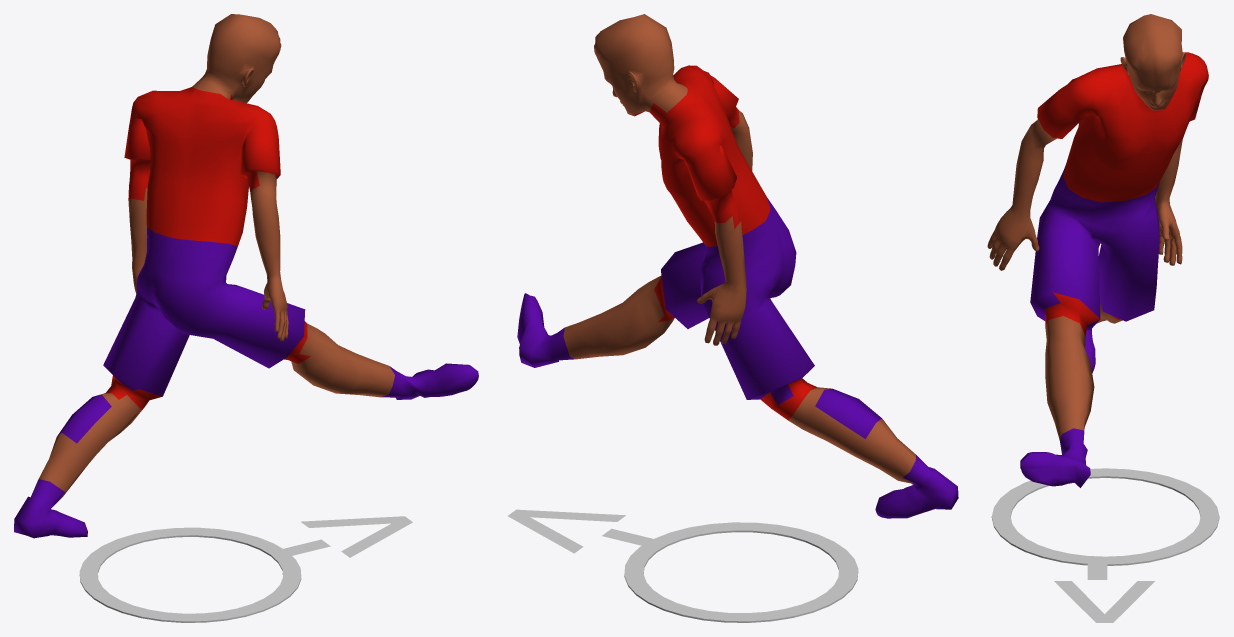
The model's file is player_000030.obj.
3 renders of one model, left to right at view 1: azimuth 30°, elevation 25°; view 2: azimuth 150°, elevation 25°; view 3: azimuth 270°, elevation 25°, orthographic. The views are drawn at different scales.
Visible parts, largest first — view 1: soccerplayer.002_mesh.003, Circle, Text.001_Mesh.001; view 2: soccerplayer.002_mesh.003, Circle, Text.001_Mesh.001; view 3: soccerplayer.002_mesh.003, Circle, Text.001_Mesh.001.
Part boxes in pixels (x1,y1,x2,y2): soccerplayer.002_mesh.003: [14, 14, 478, 538]; Circle: [79, 527, 301, 622]; Text.001_Mesh.001: [279, 516, 412, 557]; soccerplayer.002_mesh.003: [517, 14, 958, 518]; Circle: [624, 522, 858, 622]; Text.001_Mesh.001: [508, 509, 656, 553]; soccerplayer.002_mesh.003: [987, 14, 1208, 487]; Circle: [991, 468, 1219, 565]; Text.001_Mesh.001: [1054, 558, 1154, 622].
Size of the model in its own units: 2.46 by 2.85 by 1.11.
